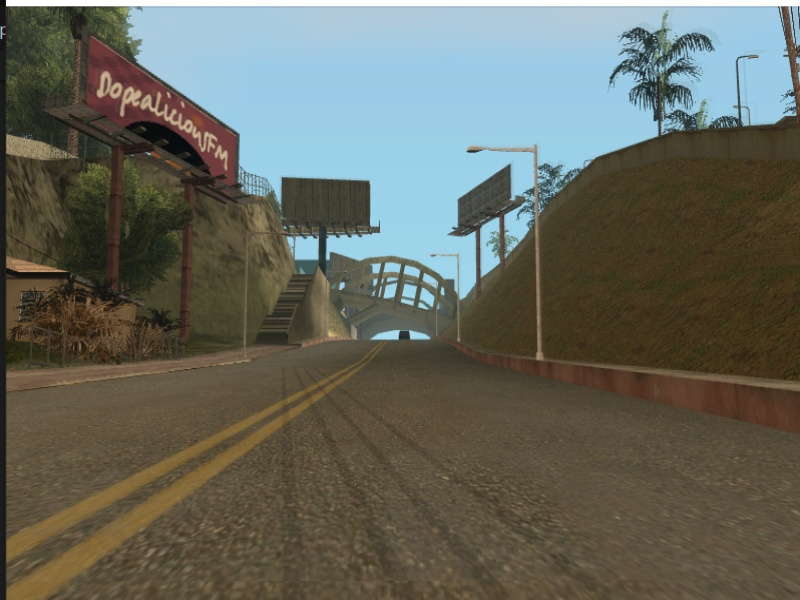pole: (528, 146, 551, 359), (239, 230, 251, 353), (453, 251, 464, 345)
vehicle: (398, 328, 411, 342)
